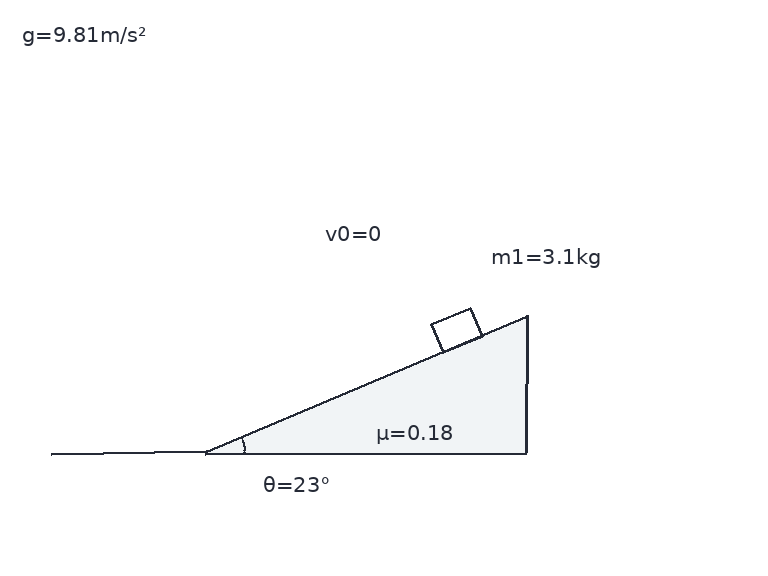block: (429, 305, 483, 354)
ramp: (203, 314, 529, 455)
